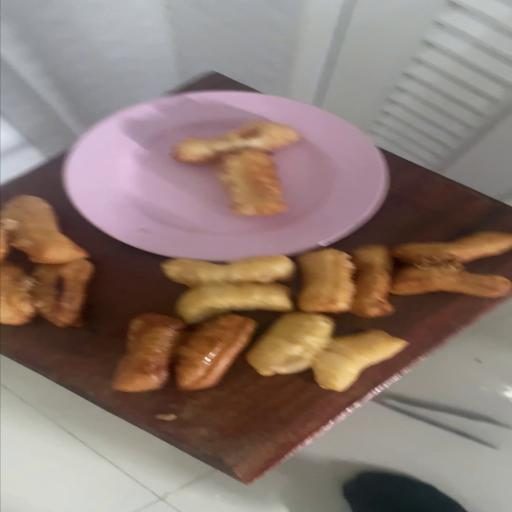street_golden_good: (2, 196, 91, 262)
